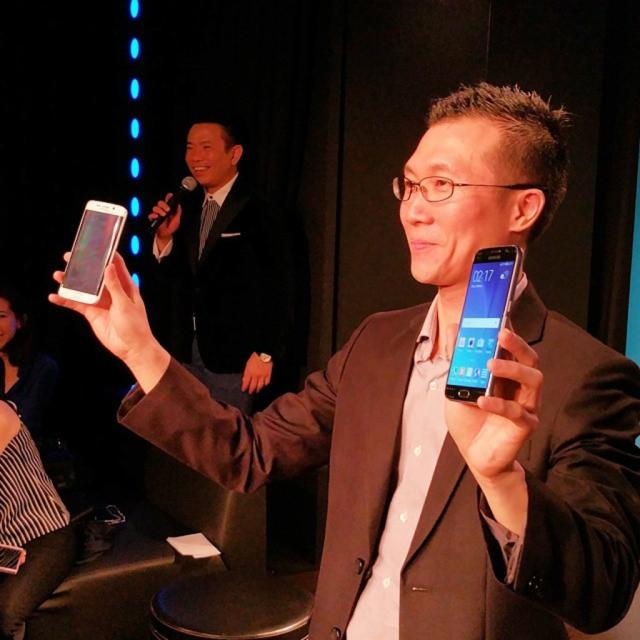Mobile-phone: (433, 238, 540, 406), (53, 198, 129, 304)
